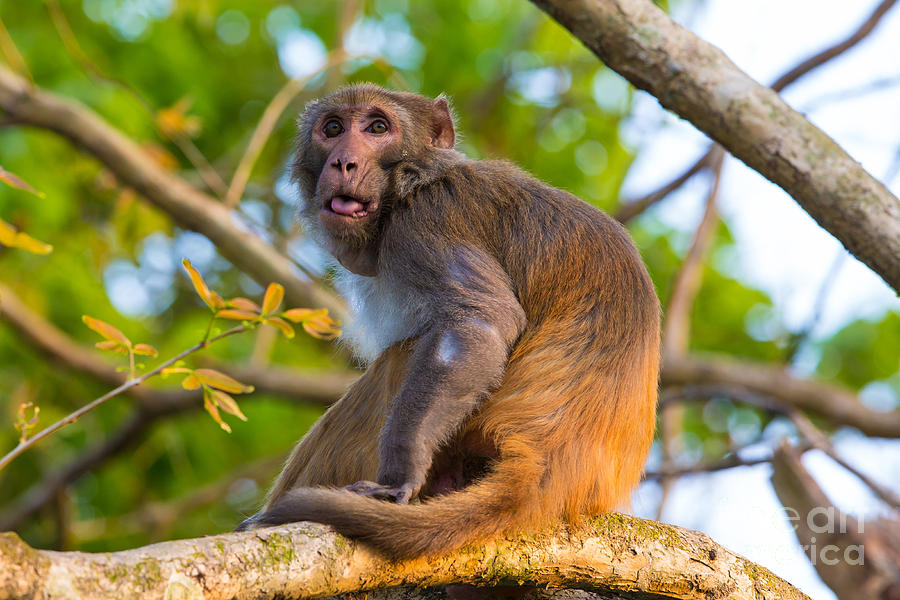monkey: (247, 81, 690, 558)
